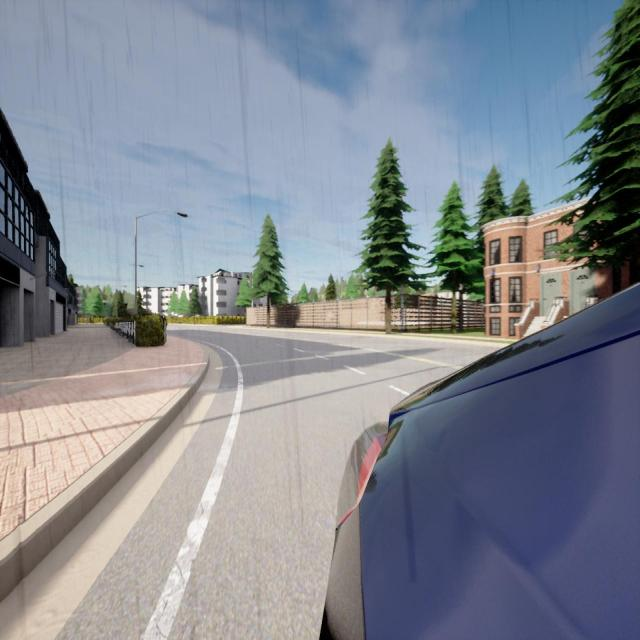Vehicle: (323, 284, 640, 638)
